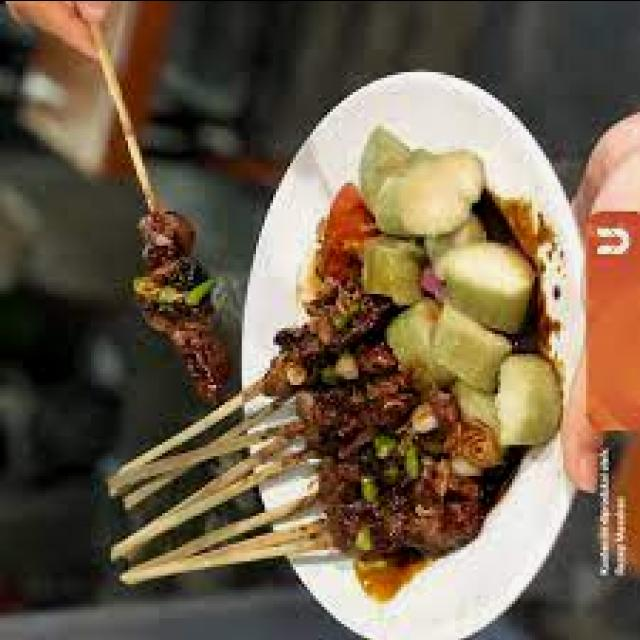sate: (111, 296, 498, 586)
